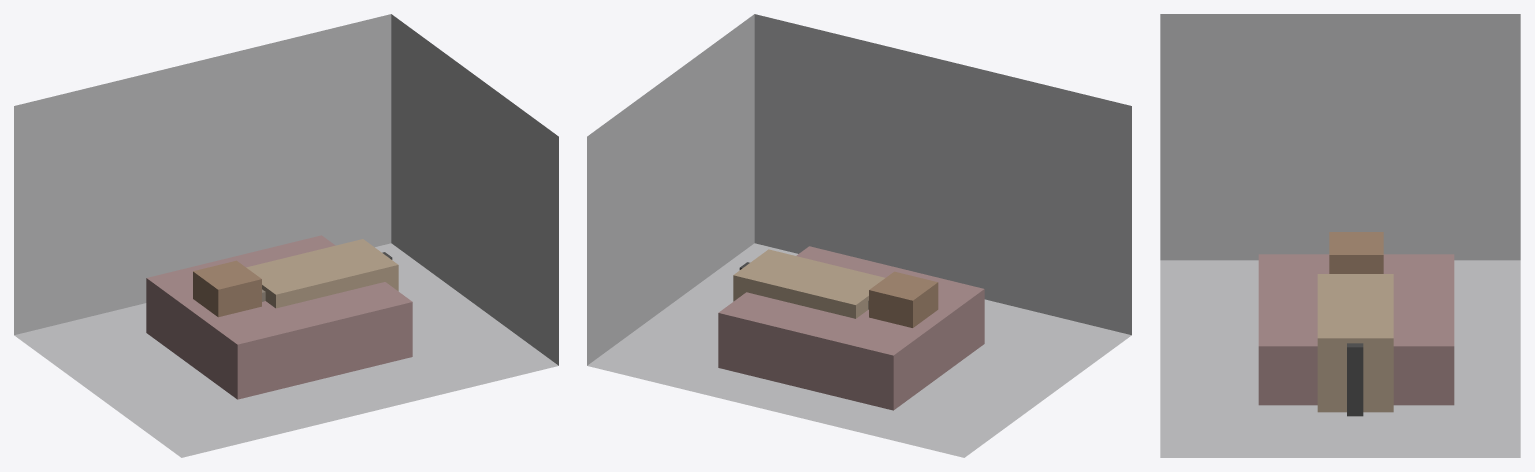
Rendered from optimised_layout.glb.
3 views of the same model, side by side, from view 1: azimuth 30°, elevation 25°; view 2: azimuth 150°, elevation 25°; view 3: azimuth 270°, elevation 25° (orthographic). The views are drawn at different scales.
Visible parts, largest first — view 1: room, bed, desk, chair; view 2: room, bed, desk, chair; view 3: room, bed, desk, chair, tv.
Boxes of the visible parts, x1,y1,x2,y2 form: room: (14, 14, 558, 457); bed: (146, 235, 412, 399); desk: (246, 239, 398, 308); chair: (193, 260, 261, 317); room: (587, 14, 1131, 457); bed: (718, 246, 984, 410); desk: (733, 249, 884, 318); chair: (869, 271, 938, 327); room: (1160, 14, 1520, 457); bed: (1258, 254, 1454, 405); desk: (1317, 274, 1393, 412); chair: (1329, 232, 1383, 273); tv: (1347, 343, 1363, 416).
Size of the model in its own units: 4.31 by 2.5 by 3.31.
